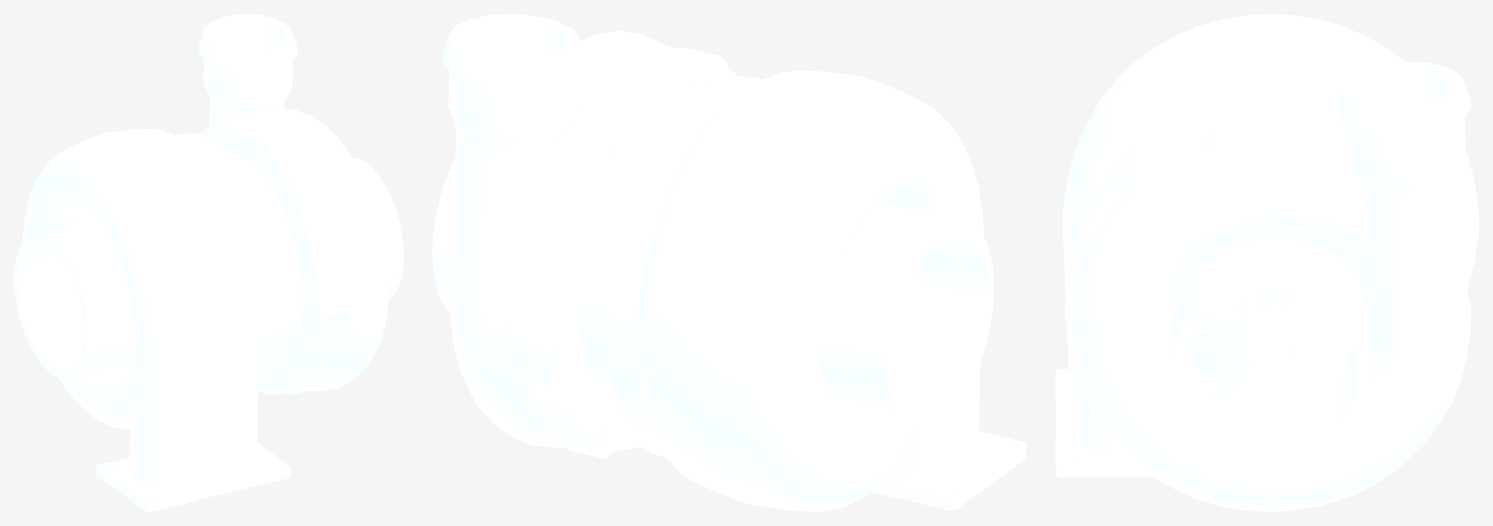
Rendered from turbo.glb.
3 renders of one model, left to right at view 1: azimuth 30°, elevation 25°; view 2: azimuth 150°, elevation 25°; view 3: azimuth 270°, elevation 25°, orthographic. The views are drawn at different scales.
Parts seen in each view (by area): view 1: Exhaust_Housing_lambert1_0, Compressor_Housing_lambert1_0, Dump_Piping_lambert1_0, Compressor_Turbine_lambert1_0, Clip_3_lambert1_0, Inlet_Piping_lambert1_0, Clip_2_lambert1_0; view 2: Exhaust_Housing_lambert1_0, Compressor_Housing_lambert1_0, Dump_Piping_lambert1_0, Compressor_Turbine_lambert1_0, Clip_1_lambert1_0, Inlet_Piping_lambert1_0, Clip_3_lambert1_0, Clip_2_lambert1_0; view 3: Compressor_Housing_lambert1_0, Exhaust_Housing_lambert1_0, Inlet_Piping_lambert1_0, Compressor_Turbine_lambert1_0, Clip_3_lambert1_0.
Part boxes in pixels (left/top/right/bottom): Exhaust_Housing_lambert1_0: left=23, top=129, right=291, bottom=511; Compressor_Housing_lambert1_0: left=198, top=14, right=388, bottom=394; Dump_Piping_lambert1_0: left=14, top=222, right=130, bottom=378; Compressor_Turbine_lambert1_0: left=227, top=154, right=302, bottom=363; Clip_3_lambert1_0: left=268, top=162, right=323, bottom=340; Inlet_Piping_lambert1_0: left=352, top=157, right=403, bottom=299; Clip_2_lambert1_0: left=258, top=366, right=298, bottom=394; Exhaust_Housing_lambert1_0: left=608, top=70, right=1026, bottom=511; Compressor_Housing_lambert1_0: left=442, top=14, right=728, bottom=458; Dump_Piping_lambert1_0: left=821, top=204, right=993, bottom=429; Compressor_Turbine_lambert1_0: left=579, top=106, right=687, bottom=403; Clip_1_lambert1_0: left=553, top=120, right=630, bottom=378; Inlet_Piping_lambert1_0: left=432, top=158, right=455, bottom=311; Clip_3_lambert1_0: left=688, top=53, right=738, bottom=93; Clip_2_lambert1_0: left=596, top=413, right=641, bottom=451; Compressor_Housing_lambert1_0: left=1070, top=62, right=1471, bottom=511; Exhaust_Housing_lambert1_0: left=1055, top=14, right=1478, bottom=477; Inlet_Piping_lambert1_0: left=1170, top=238, right=1369, bottom=461; Compressor_Turbine_lambert1_0: left=1183, top=290, right=1354, bottom=417; Clip_3_lambert1_0: left=1065, top=131, right=1204, bottom=326.
Size of the model in its own units: 4.41 by 4.41 by 3.78.
